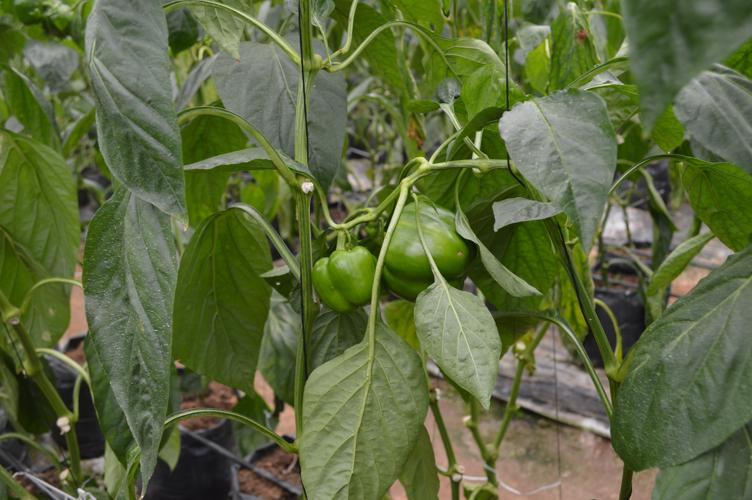BellPepper: (378, 212, 475, 308), (309, 245, 379, 311)
